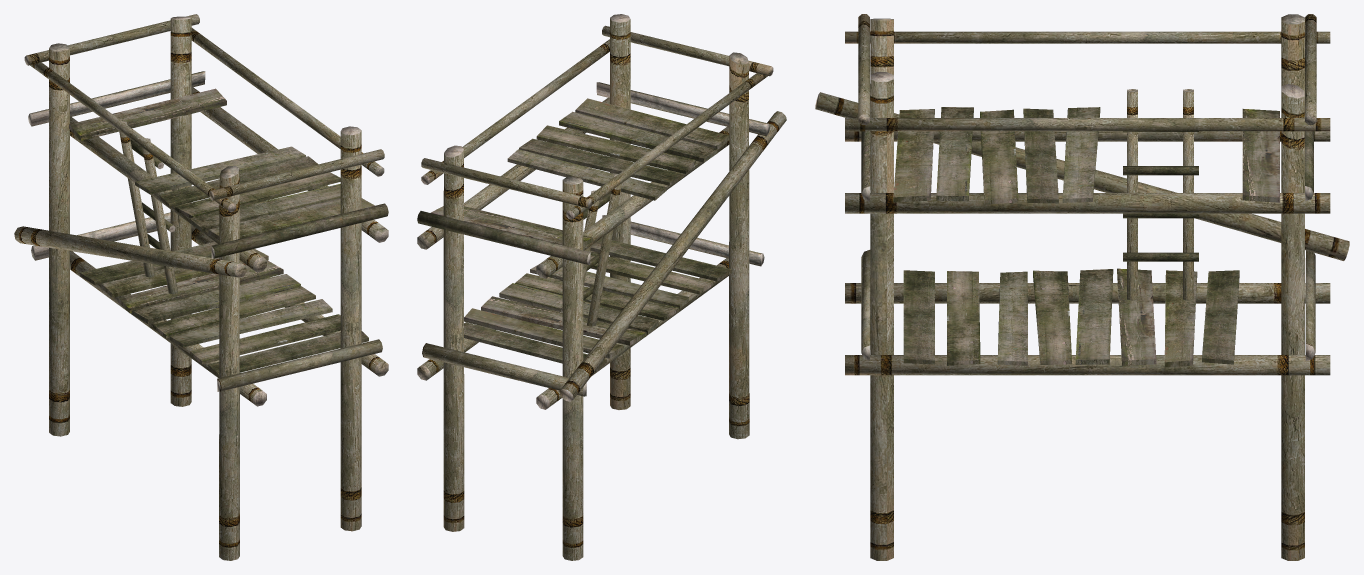
The model's file is scaffold_up_3x3.glb.
3 renders of one model, left to right at view 1: azimuth 30°, elevation 25°; view 2: azimuth 150°, elevation 25°; view 3: azimuth 270°, elevation 25°, orthographic. The views are drawn at different scales.
Visible parts, largest first — view 1: scaffold_up_3x3_part0; view 2: scaffold_up_3x3_part0; view 3: scaffold_up_3x3_part0.
Part boxes in pixels (x1,y1,x2,y2): scaffold_up_3x3_part0: (14,14,388,560); scaffold_up_3x3_part0: (417,14,786,560); scaffold_up_3x3_part0: (815,14,1349,560).
Bounding box in the file's own units: 1.03 × 2.15 × 2.17.
1 material, 1 textured.
